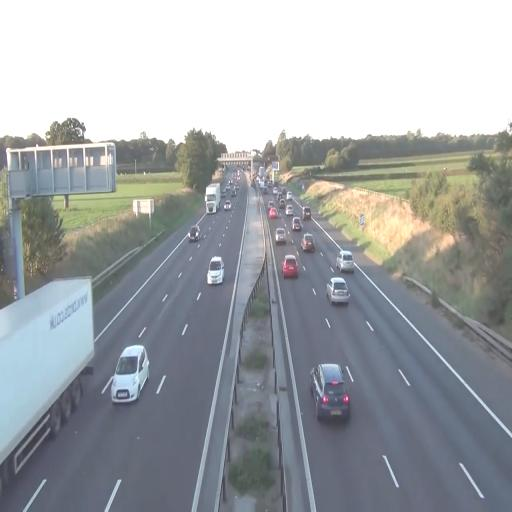vehicle: (310, 362, 352, 422), (112, 344, 150, 404), (326, 276, 350, 306), (207, 256, 224, 284), (205, 184, 221, 213), (282, 253, 298, 280), (337, 251, 354, 274), (300, 234, 316, 254), (274, 226, 287, 245), (189, 226, 200, 244), (268, 204, 278, 220), (188, 227, 198, 242)
